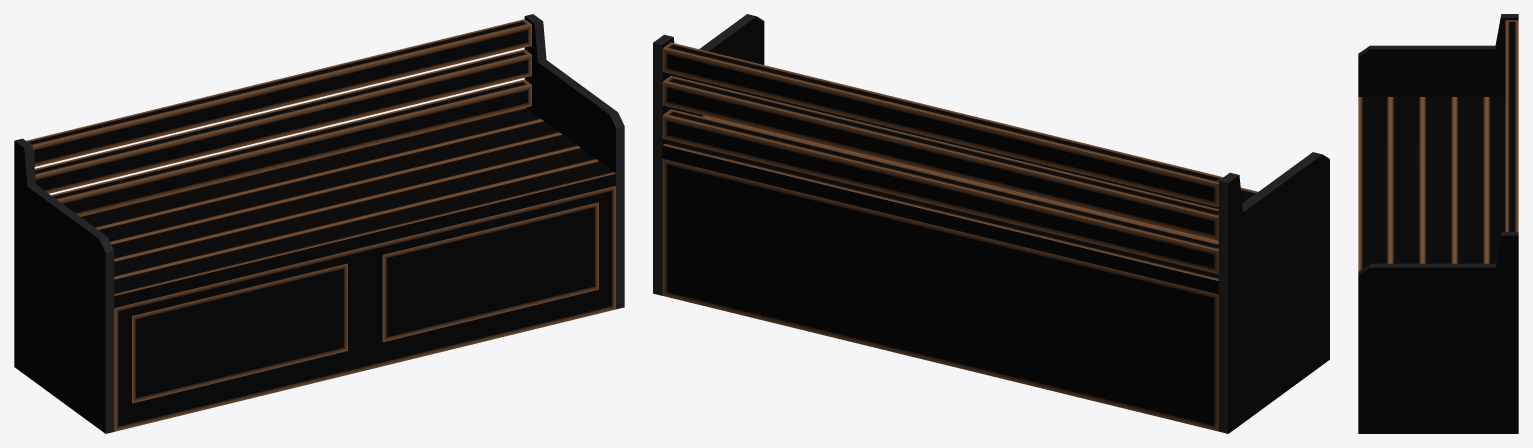
File: deck_bench.glb
3 renders of one model, left to right at view 1: azimuth 30°, elevation 25°; view 2: azimuth 150°, elevation 25°; view 3: azimuth 270°, elevation 25°, orthographic. The views are drawn at different scales.
Parts seen in each view (by area): view 1: seat, ends; view 2: seat, ends; view 3: ends, seat.
Part boxes in pixels (<box>): seat: <box>26,19,615,431</box>; ends: <box>14,14,624,433</box>; seat: <box>662,42,1258,431</box>; ends: <box>653,14,1329,433</box>; ends: <box>1358,14,1518,433</box>; seat: <box>1358,20,1518,271</box>.
Size of the model in its own units: 1.8 by 0.75 by 0.551.
